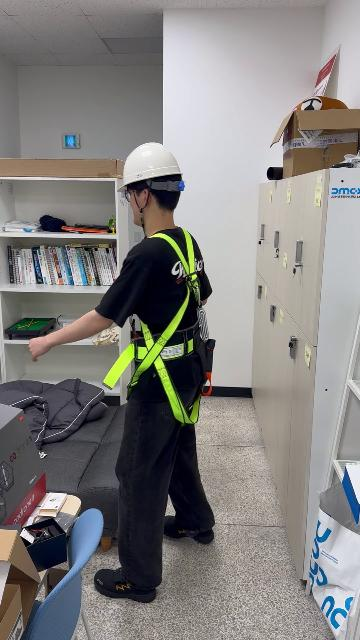helmet_worn: (114, 144, 184, 194)
shoe_worn: (94, 567, 157, 603), (162, 518, 213, 543)
vest_worn: (120, 237, 211, 415)
